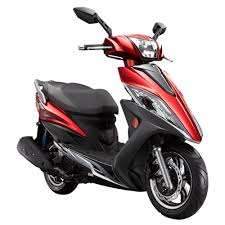motorcycle: (11, 5, 211, 220)
